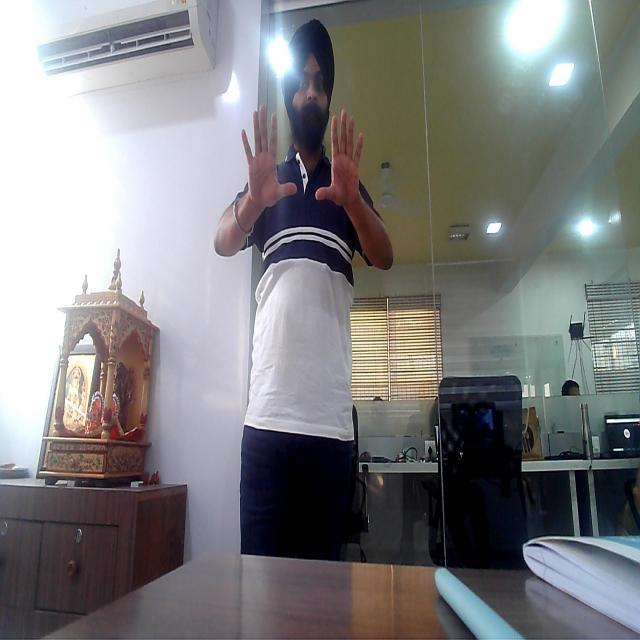without_gloves: (239, 98, 301, 214), (319, 115, 375, 222)
